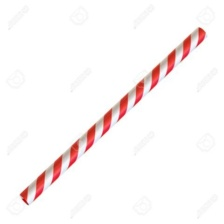drinking_straw: (12, 22, 213, 210)
